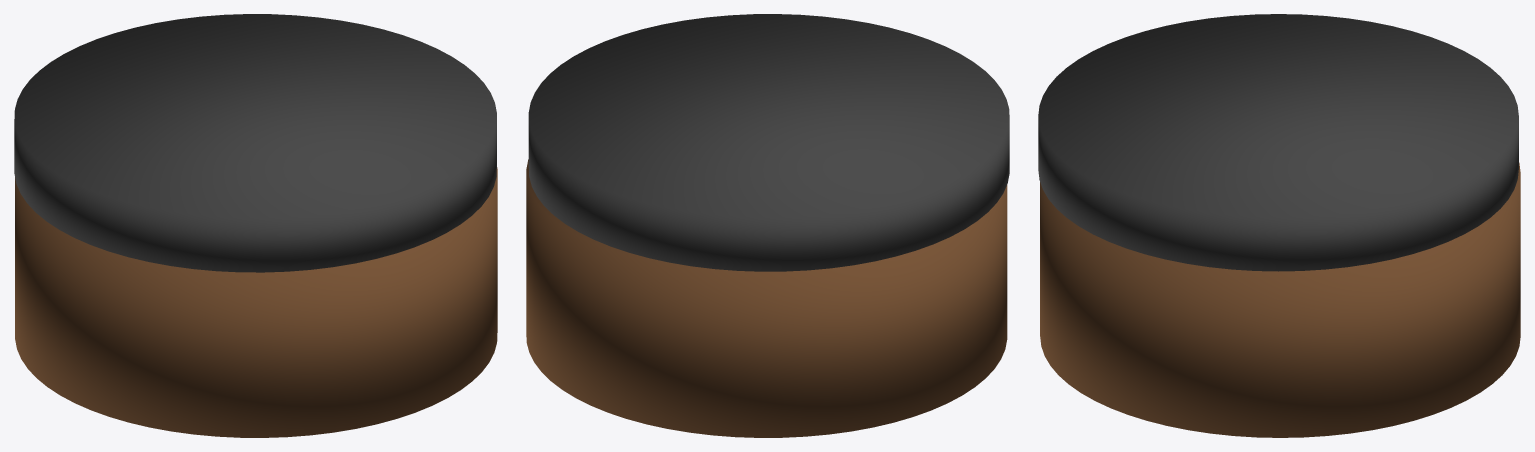
The model's file is can.fbx.
3 renders of one model, left to right at view 1: azimuth 30°, elevation 25°; view 2: azimuth 150°, elevation 25°; view 3: azimuth 270°, elevation 25°, orthographic.
Visible parts, largest first — view 1: Cylinder.001, Cylinder; view 2: Cylinder.001, Cylinder; view 3: Cylinder.001, Cylinder.
Boxes of the visible parts, x1,y1,x2,y2 form: Cylinder.001: (14, 14, 496, 272); Cylinder: (15, 167, 497, 437); Cylinder.001: (528, 14, 1009, 271); Cylinder: (526, 159, 1007, 437); Cylinder.001: (1038, 14, 1518, 271); Cylinder: (1040, 162, 1520, 437).
Bounding box in the file's own units: 201 × 101 × 201.
